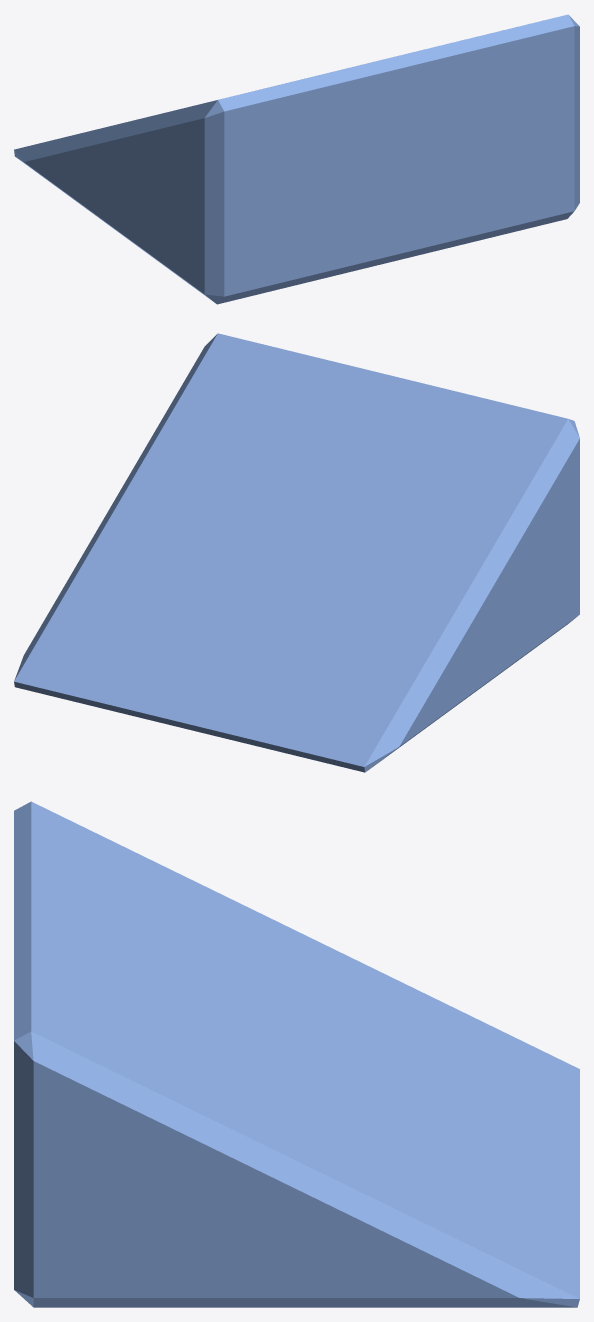
The picture shows the model from 3 angles, top to bottom: view 1: azimuth 30°, elevation 25°; view 2: azimuth 150°, elevation 25°; view 3: azimuth 270°, elevation 25°; orthographic projection. The views are drawn at different scales.
Parts seen in each view (by area): view 1: Cube.016; view 2: Cube.016; view 3: Cube.016.
Boxes of the visible parts, x1=… form: Cube.016: x1=14, y1=14, x2=579, y2=304; Cube.016: x1=14, y1=333, x2=579, y2=772; Cube.016: x1=14, y1=801, x2=579, y2=1307.
Size of the model in its own units: 200 by 104 by 194.
